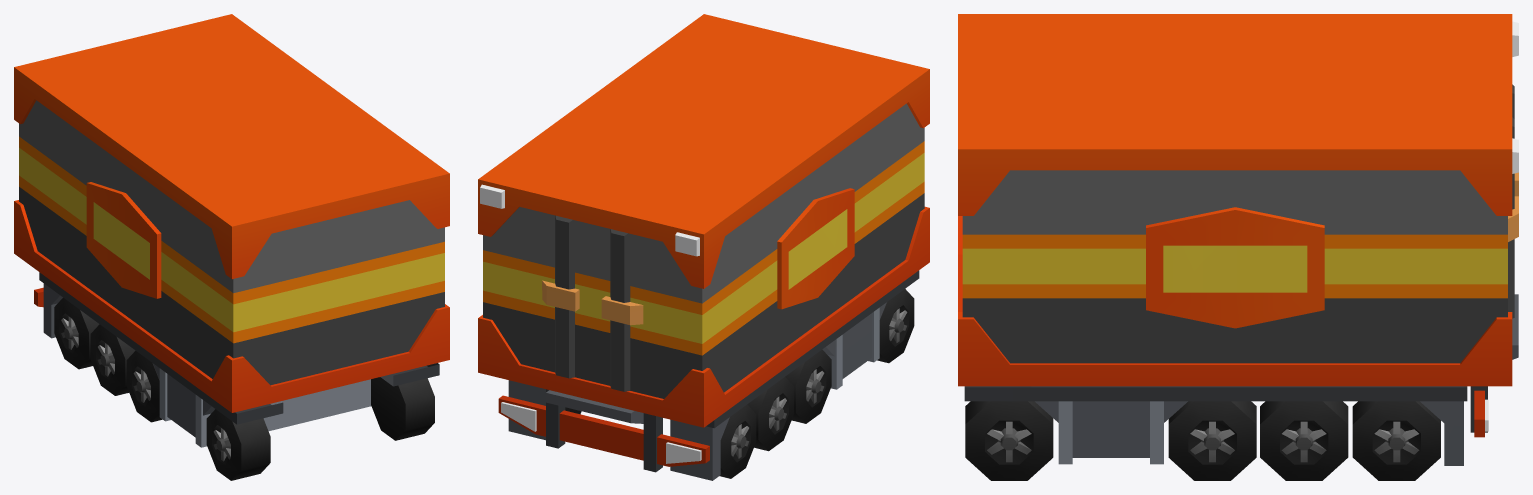
File: cargo_04_D_1.fbx
3 views of the same model, side by side, from view 1: azimuth 30°, elevation 25°; view 2: azimuth 150°, elevation 25°; view 3: azimuth 270°, elevation 25° (orthographic). The views are drawn at different scales.
Parts seen in each view (by area): view 1: cargo_04_D_1; view 2: cargo_04_D_1; view 3: cargo_04_D_1.
Boxes of the visible parts, x1,y1,x2,y2 form: cargo_04_D_1: [14, 14, 449, 480]; cargo_04_D_1: [478, 14, 929, 480]; cargo_04_D_1: [958, 14, 1518, 480].
Bounding box in the file's own units: 1424 × 1648 × 2470.
